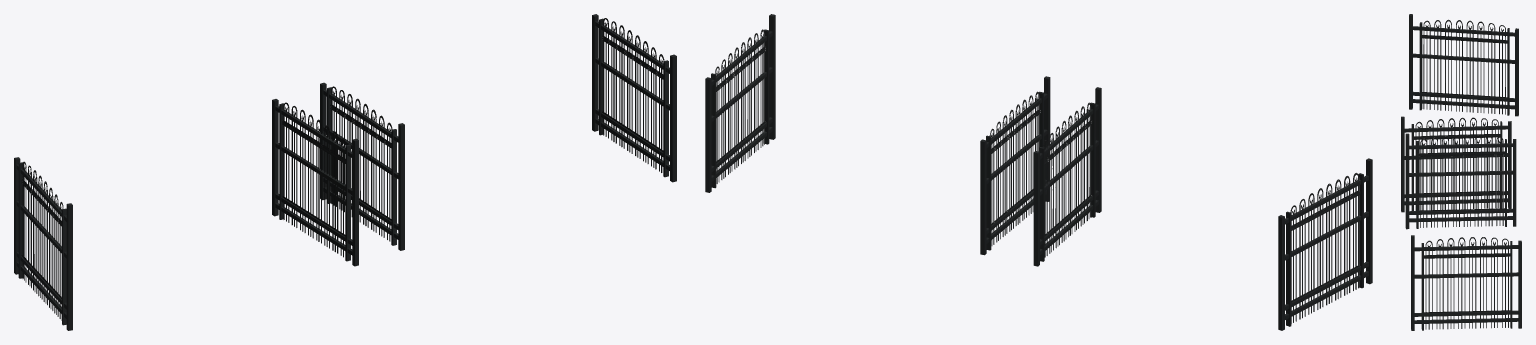
Rendered from Gates_Entrance_COMBO.fbx.
3 renders of one model, left to right at view 1: azimuth 30°, elevation 25°; view 2: azimuth 150°, elevation 25°; view 3: azimuth 270°, elevation 25°, orthographic. The views are drawn at different scales.
Visible parts, largest first — view 1: VP_park_fence_gate; view 2: VP_park_fence_gate; view 3: VP_park_fence_gate.
Boxes of the visible parts, box(x1,y1,x2,y2) form: VP_park_fence_gate: box(14, 14, 676, 330); VP_park_fence_gate: box(705, 14, 1372, 330); VP_park_fence_gate: box(1401, 14, 1521, 330).
Size of the model in its own units: 15.33 by 3.04 by 3.51.
